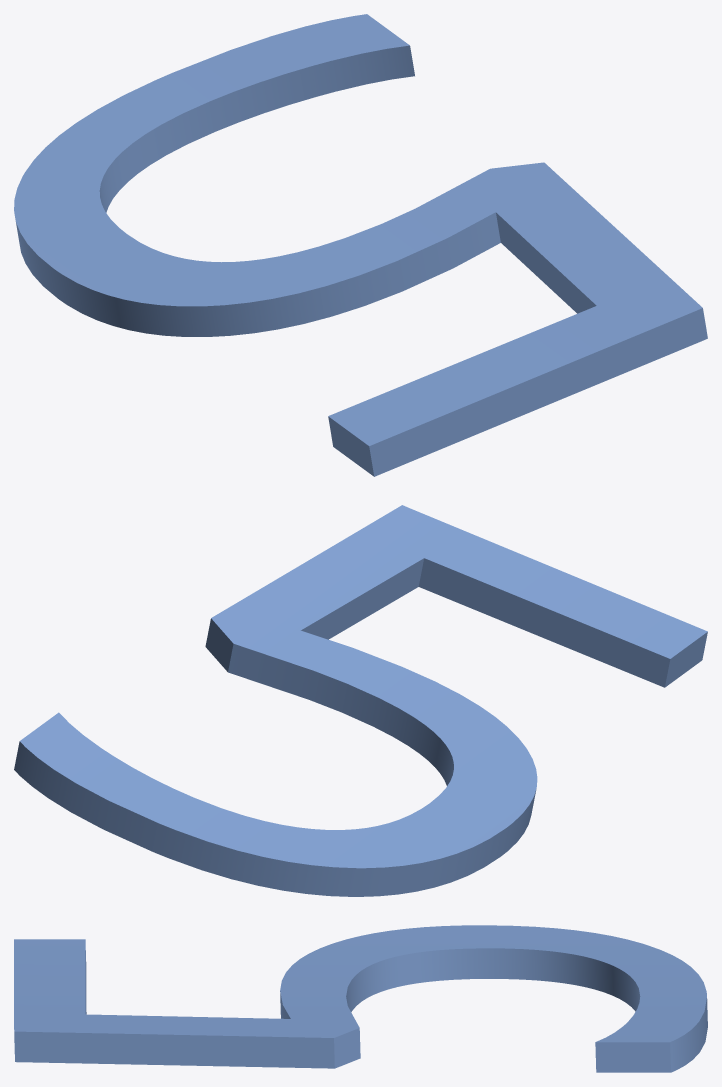
The model's file is New_Number_5.gltf.
The picture shows the model from 3 angles, top to bottom: view 1: azimuth 30°, elevation 25°; view 2: azimuth 150°, elevation 25°; view 3: azimuth 270°, elevation 25°; orthographic projection. The views are drawn at different scales.
Parts seen in each view (by area): view 1: Part 284; view 2: Part 284; view 3: Part 284.
Boxes of the visible parts, box(x1,y1,x2,y2) form: Part 284: box(14, 14, 707, 476); Part 284: box(14, 505, 707, 896); Part 284: box(14, 925, 707, 1072).
Size of the model in its own units: 0.00346 by 0.000804 by 0.00558.
